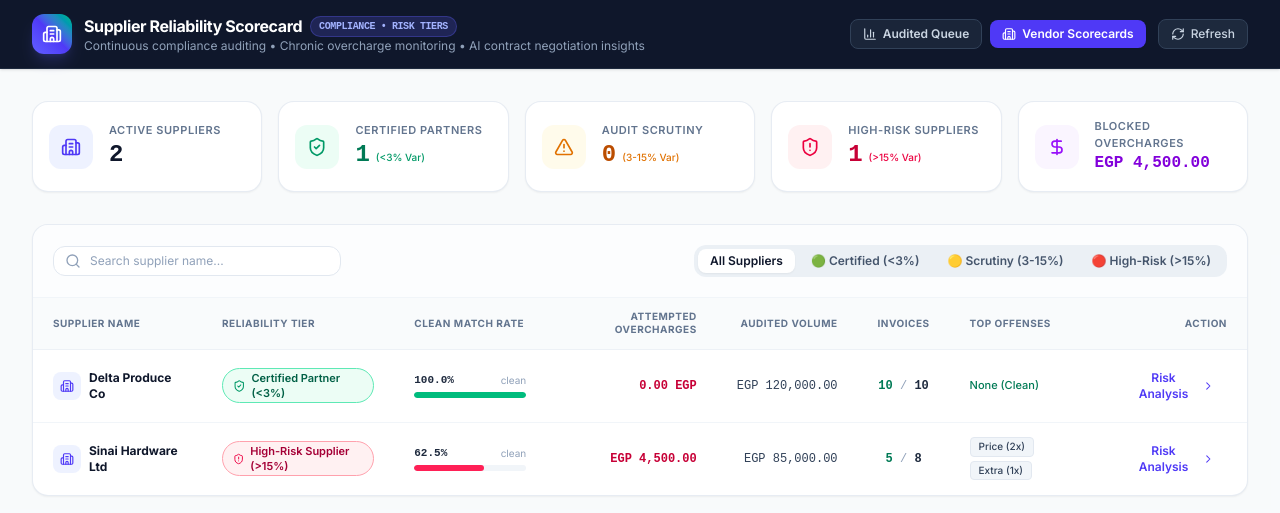
Test: VendorScorecardClient Component › filters suppliers when typing into search input
Expected: the text "Delta Produce Co" is shown, [89,370,182,402]
Type "Sinai" into the field with placeholder "Search supplier name..." at (197, 261), box [53,246,341,276]
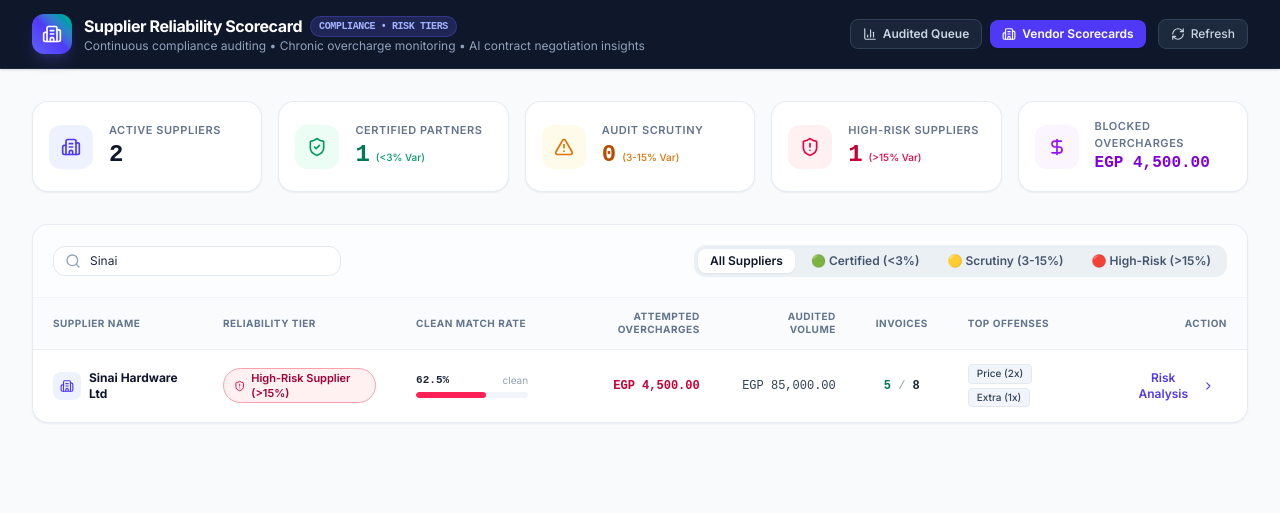
Expected: the text "Sinai Hardware Ltd" is shown, [89,370,183,402]
Expected: the text "Delta Produce Co" is gone
